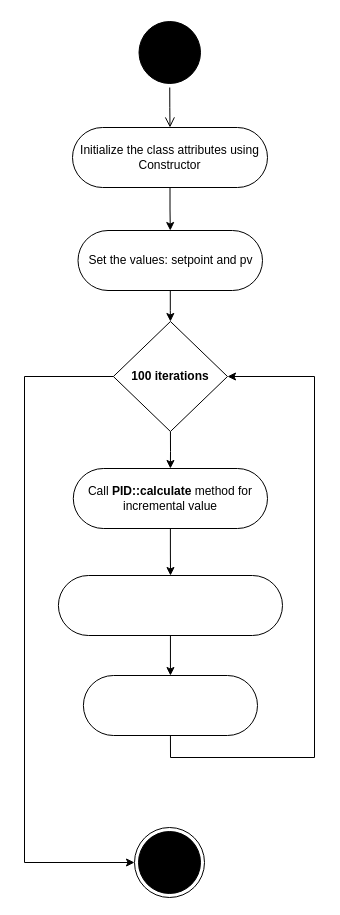
This 340x915 diagram has some shape labels left out. The centre of each missing label's shape, as x and y in pixels:
Add incremental value to process value: point 170,705
Print process value and incremental value.: point 169,605
